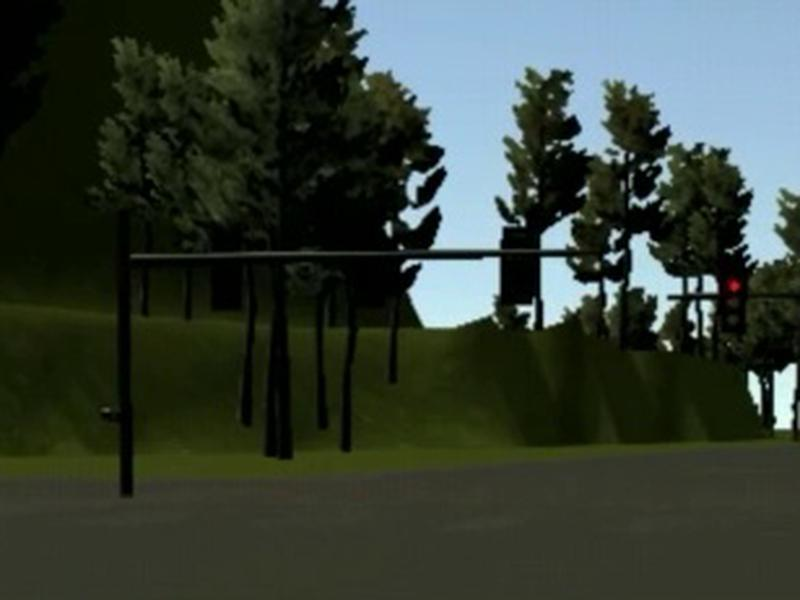Red: (723, 275, 747, 333)
